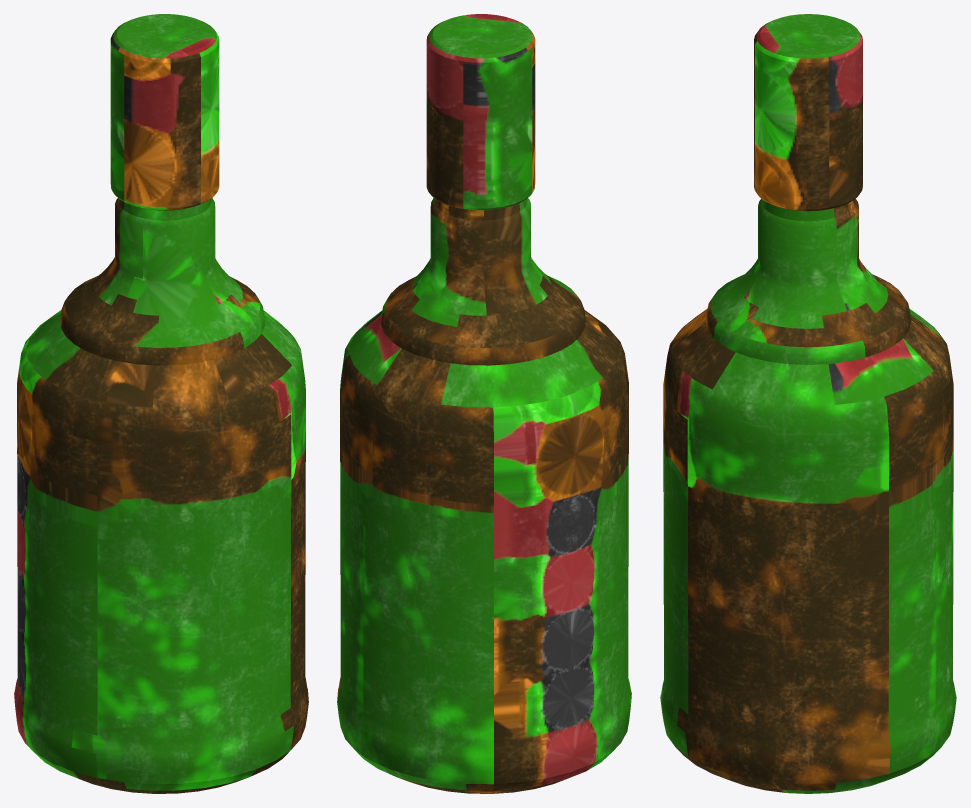
File: Draher.fbx
The picture shows the model from 3 angles, left to right: view 1: azimuth 30°, elevation 25°; view 2: azimuth 150°, elevation 25°; view 3: azimuth 270°, elevation 25°; orthographic projection.
Visible parts, largest first — view 1: Cylinder.006; view 2: Cylinder.006; view 3: Cylinder.006.
Part boxes in pixels (x1,y1,x2,y2): Cylinder.006: [14, 14, 308, 793]; Cylinder.006: [337, 14, 631, 793]; Cylinder.006: [660, 14, 956, 793].
Size of the model in its own units: 16.1 by 42.76 by 16.1.
